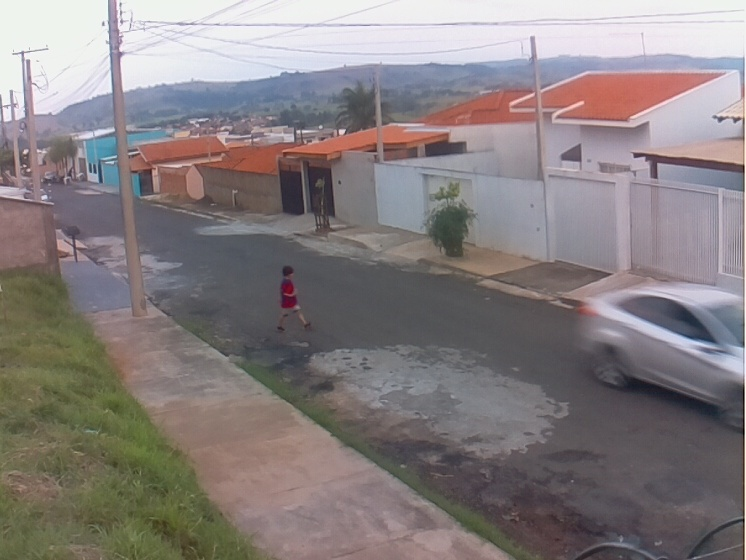person: (275, 264, 312, 333)
